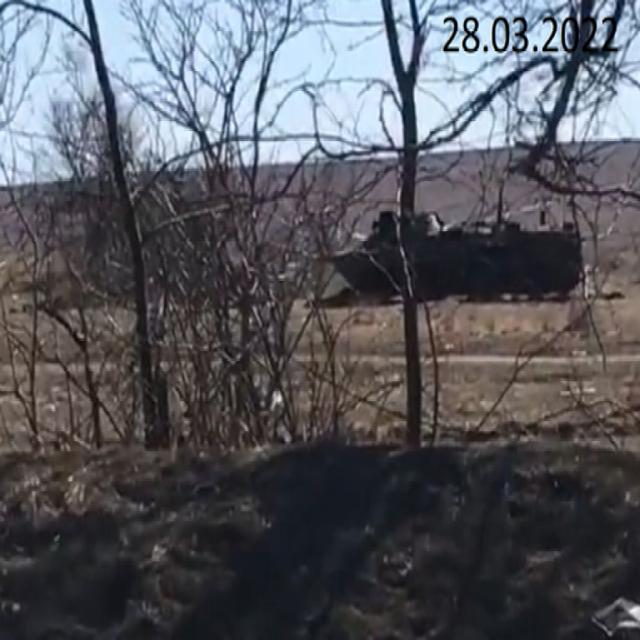APC-IFV: (329, 182, 586, 314)
